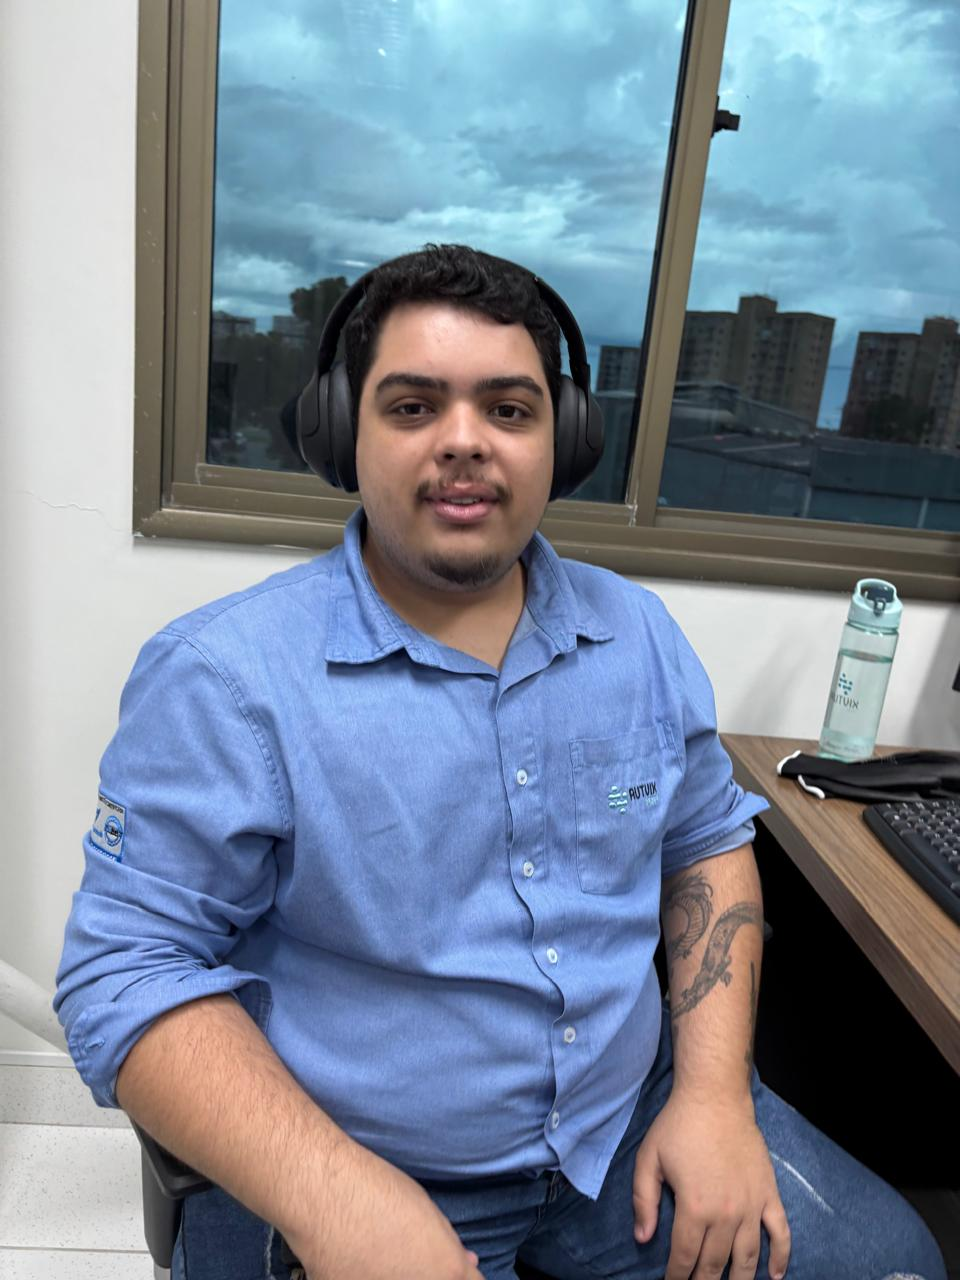no-gloves: (626, 1096, 815, 1280)
